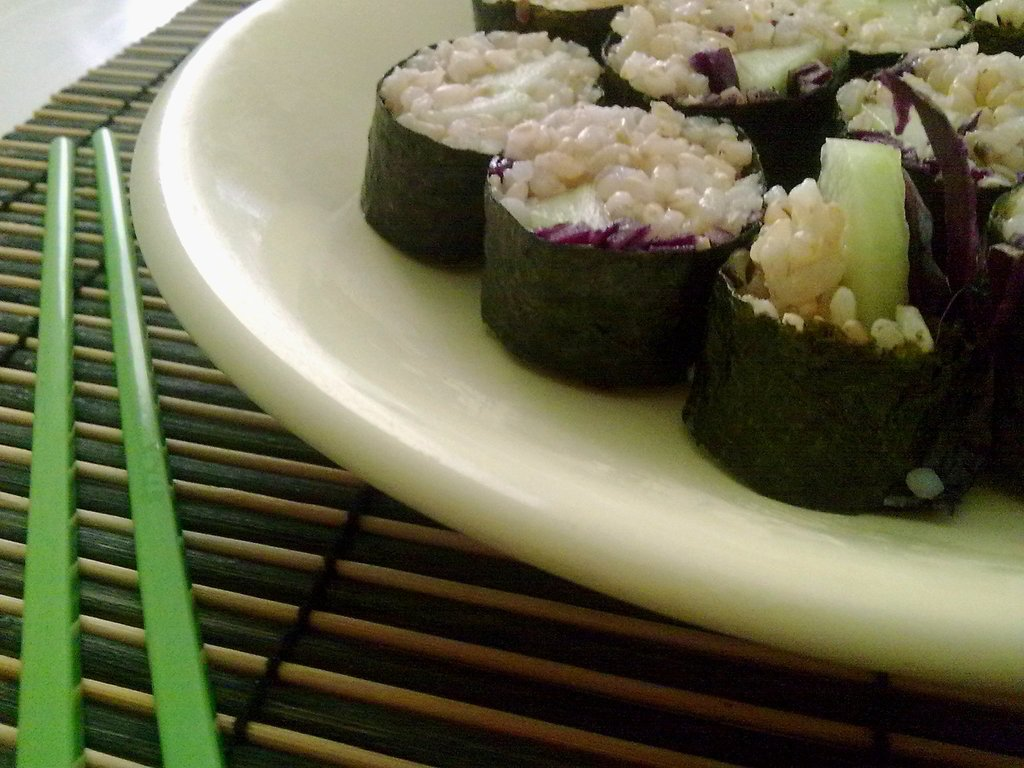sushi: (354, 0, 1023, 514), (492, 110, 758, 387)
